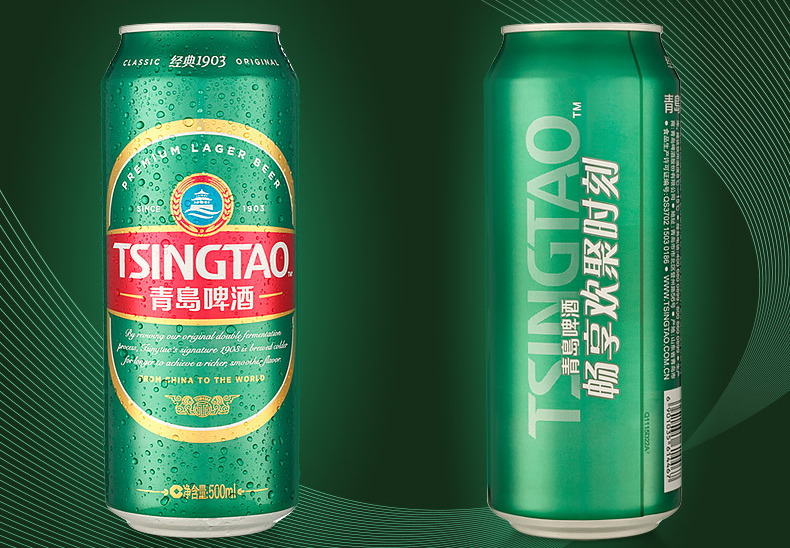beer can: (482, 23, 684, 538), (101, 22, 299, 538)
